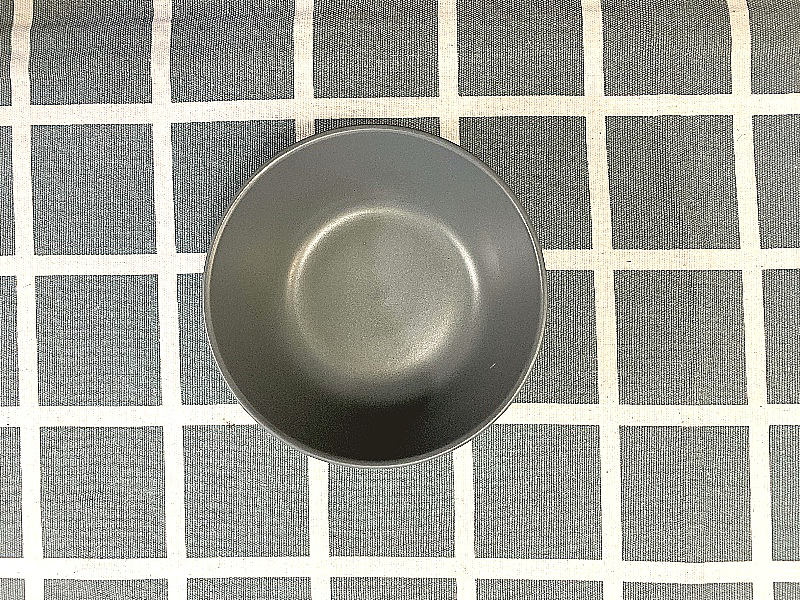bowl_big: (180, 111, 557, 474)
